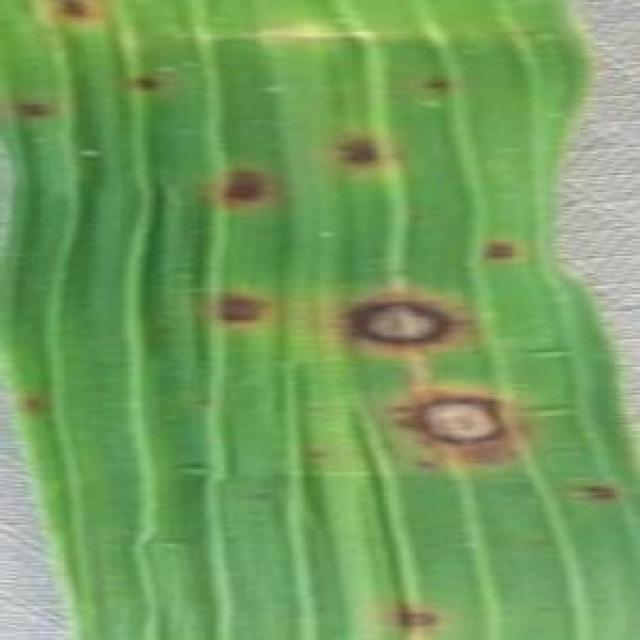Brown_Spot: (395, 388, 519, 473), (348, 283, 468, 357), (315, 124, 395, 182), (34, 0, 109, 43), (214, 163, 270, 215), (210, 287, 274, 325), (11, 92, 66, 129), (572, 475, 623, 511), (473, 236, 525, 271), (394, 603, 441, 640), (131, 62, 165, 102), (420, 70, 451, 95)
